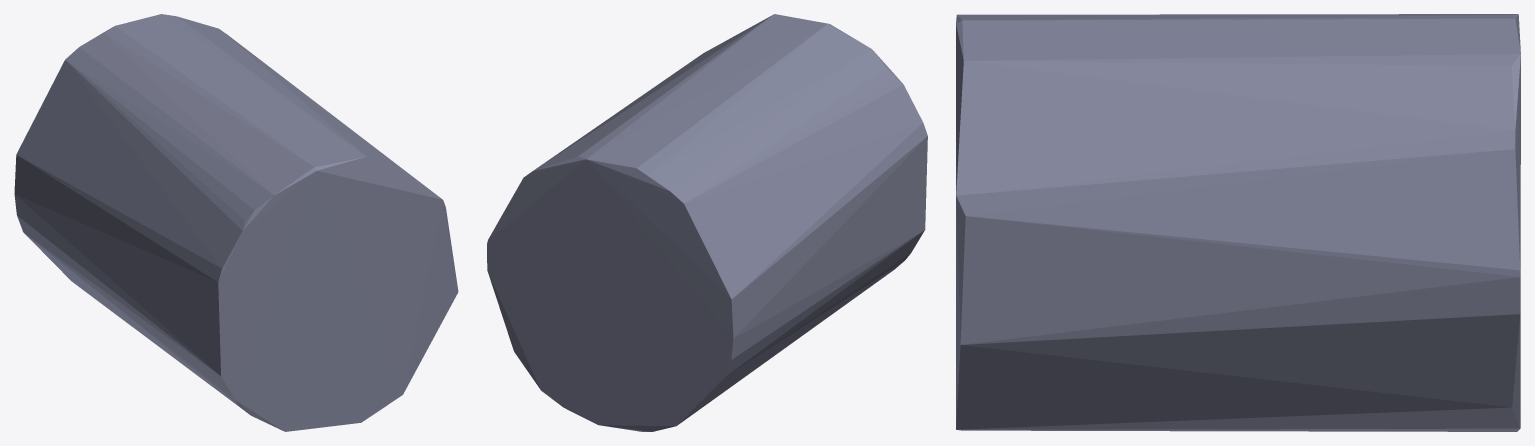
File: food_canned_beans_a03.glb
The picture shows the model from 3 angles, left to right: view 1: azimuth 30°, elevation 25°; view 2: azimuth 150°, elevation 25°; view 3: azimuth 270°, elevation 25°; orthographic projection. The views are drawn at different scales.
Visible parts, largest first — view 1: geometry_0; view 2: geometry_0; view 3: geometry_0.
Boxes of the visible parts, x1,y1,x2,y2 form: geometry_0: [14, 14, 458, 431]; geometry_0: [487, 14, 927, 431]; geometry_0: [956, 14, 1520, 431].
Bounding box in the file's own units: 0.342 × 0.3515 × 0.4795.
